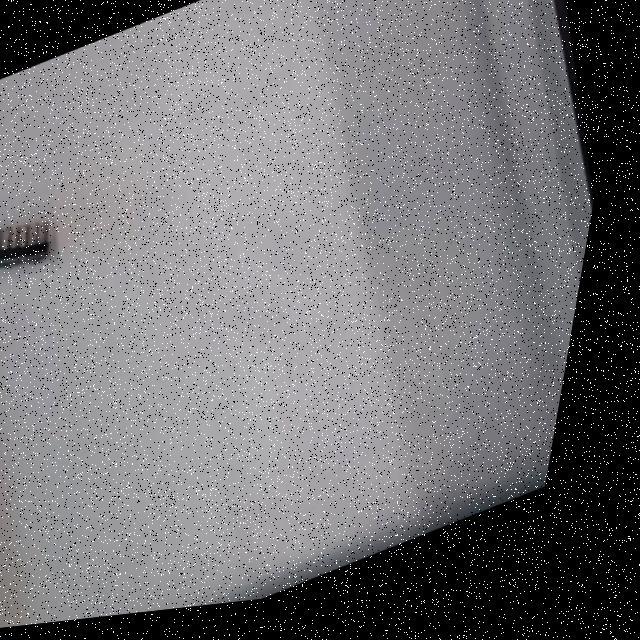Chip: (0, 194, 67, 297)
